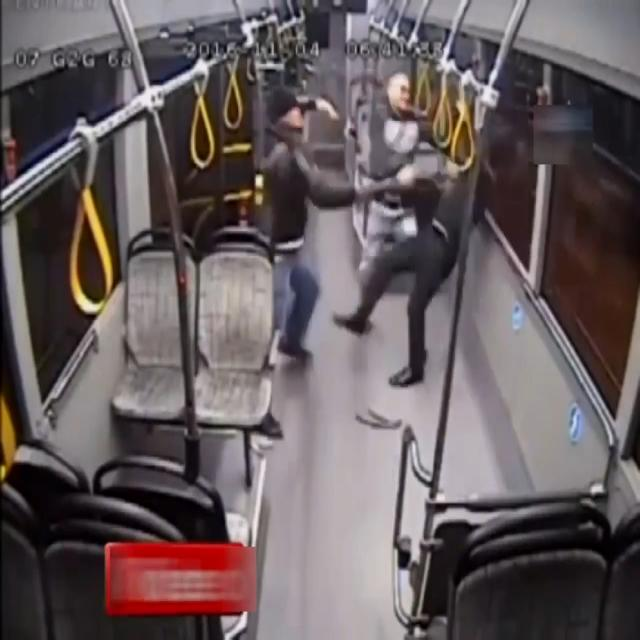fight: (333, 70, 490, 388)
